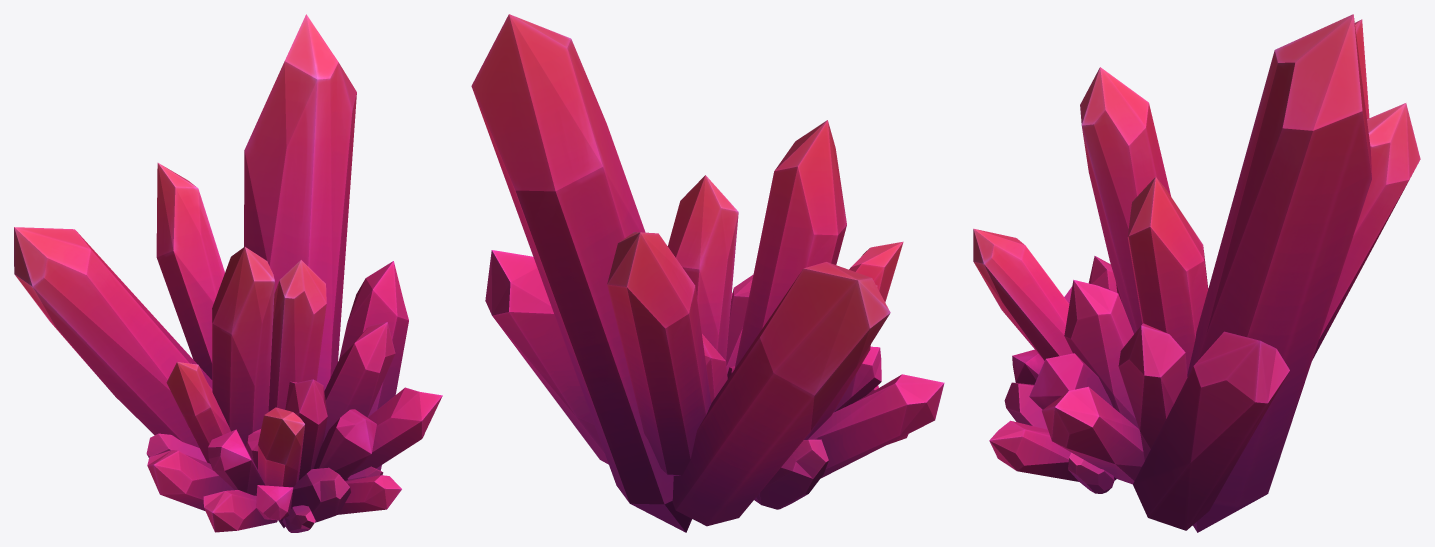
File: Crytal_Mega.FBX
3 renders of one model, left to right at view 1: azimuth 30°, elevation 25°; view 2: azimuth 150°, elevation 25°; view 3: azimuth 270°, elevation 25°, orthographic. The views are drawn at different scales.
Parts seen in each view (by area): view 1: Crystal_04, Crystal_05, Crystal_07, Crystal_06, Crystal_03, Crystal_09, Crystal_08, Crystal_015, Crystal_014, Crystal_011, Crystal_012, Crystal_017 (+8 smaller); view 2: Crystal_04, Crystal_05, Crystal_06, Crystal_07, Crystal_08, Crystal_03, Crystal_012, Crystal_020, Crystal_014, Crystal_013, Crystal_02, Crystal_010 (+1 smaller); view 3: Crystal_04, Crystal_08, Crystal_07, Crystal_03, Crystal_014, Crystal_06, Crystal_015, Crystal_02, Crystal_09, Crystal_022, Crystal_017, Crystal_018 (+4 smaller).
Boxes of the visible parts, <box> form: Crystal_04: <box>244,14,356,527</box>; Crystal_05: <box>14,227,212,447</box>; Crystal_07: <box>212,247,274,446</box>; Crystal_06: <box>156,163,224,379</box>; Crystal_03: <box>268,260,326,411</box>; Crystal_09: <box>323,322,395,440</box>; Crystal_08: <box>339,261,408,470</box>; Crystal_015: <box>351,387,442,475</box>; Crystal_014: <box>258,407,304,487</box>; Crystal_011: <box>166,362,230,463</box>; Crystal_012: <box>147,450,234,511</box>; Crystal_017: <box>313,409,376,480</box>; Crystal_04: <box>471,14,691,532</box>; Crystal_05: <box>672,262,890,526</box>; Crystal_06: <box>607,232,711,475</box>; Crystal_07: <box>734,120,846,368</box>; Crystal_08: <box>485,250,608,464</box>; Crystal_03: <box>667,175,738,360</box>; Crystal_012: <box>807,374,944,478</box>; Crystal_020: <box>754,439,828,509</box>; Crystal_014: <box>849,241,903,302</box>; Crystal_013: <box>833,346,881,412</box>; Crystal_02: <box>726,274,753,373</box>; Crystal_010: <box>702,334,727,402</box>; Crystal_04: <box>1187,14,1371,532</box>; Crystal_08: <box>1133,331,1289,530</box>; Crystal_07: <box>1080,67,1170,333</box>; Crystal_03: <box>1127,177,1208,373</box>; Crystal_014: <box>973,228,1072,360</box>; Crystal_06: <box>1312,103,1420,360</box>; Crystal_015: <box>1042,386,1144,484</box>; Crystal_02: <box>1064,279,1138,428</box>; Crystal_09: <box>1118,323,1187,460</box>; Crystal_022: <box>989,420,1116,481</box>; Crystal_017: <box>1029,353,1112,409</box>; Crystal_018: <box>1004,382,1047,429</box>.
Size of the model in its own units: 974 by 1188 by 844.
Materials: 1 (1 with a texture image).
